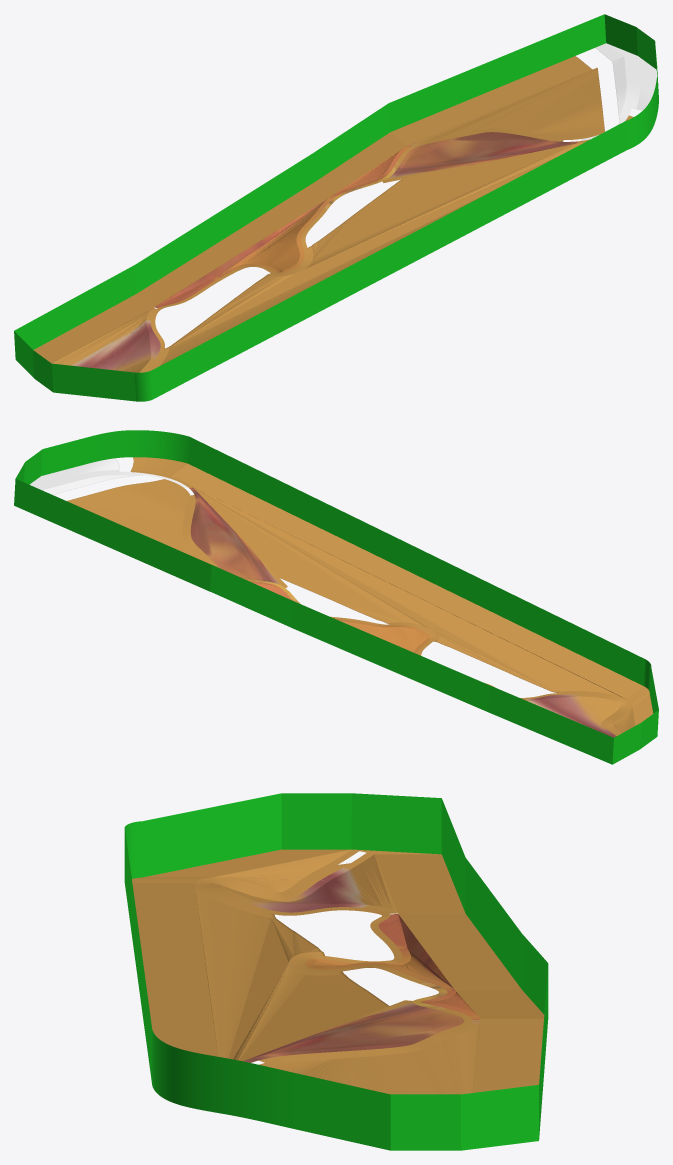
File: Course1_Model.fbx
3 views of the same model, one above another, from view 1: azimuth 30°, elevation 25°; view 2: azimuth 150°, elevation 25°; view 3: azimuth 270°, elevation 25° (orthographic). The views are drawn at different scales.
Parts seen in each view (by area): view 1: Course; view 2: Course; view 3: Course.
Boxes of the visible parts, x1,y1,x2,y2 form: Course: (14,14,658,401); Course: (14,430,658,764); Course: (124,793,548,1150).
Size of the model in its own units: 53957 by 14360 by 16751.
